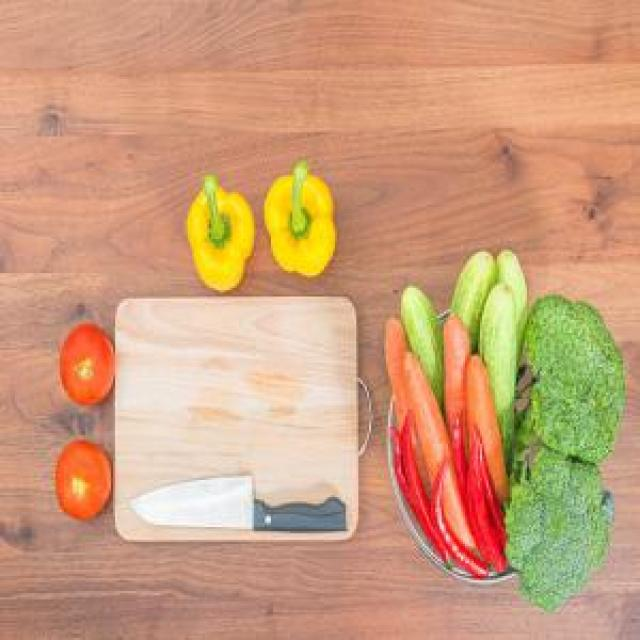knife: (132, 472, 352, 532)
